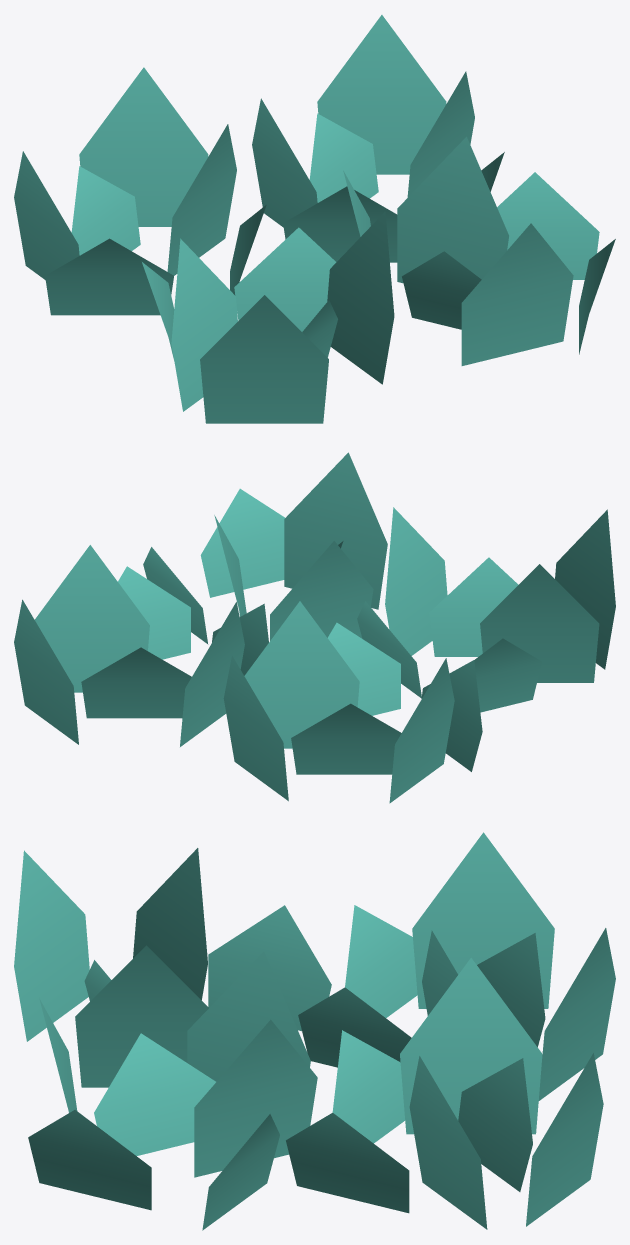
File: grass_leafsLarge.glb
The picture shows the model from 3 angles, top to bottom: view 1: azimuth 30°, elevation 25°; view 2: azimuth 150°, elevation 25°; view 3: azimuth 270°, elevation 25°; orthographic projection. The views are drawn at different scales.
Visible parts, largest first — view 1: grass_leafsLarge; view 2: grass_leafsLarge; view 3: grass_leafsLarge.
Part boxes in pixels (x1,y1,x2,y2): grass_leafsLarge: [14, 15, 615, 423]; grass_leafsLarge: [14, 452, 615, 803]; grass_leafsLarge: [14, 832, 615, 1230].
Size of the model in its own units: 0.4759 by 0.1425 by 0.4873.
